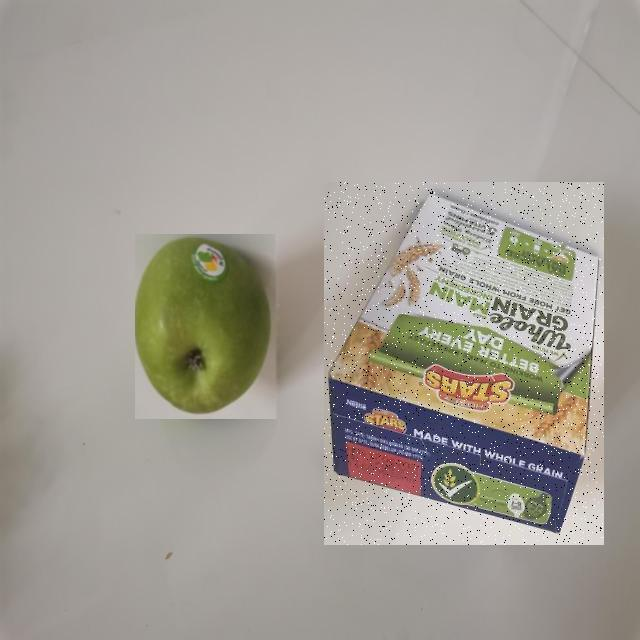Apple: (136, 234, 280, 419)
Cereal: (324, 182, 604, 545)
